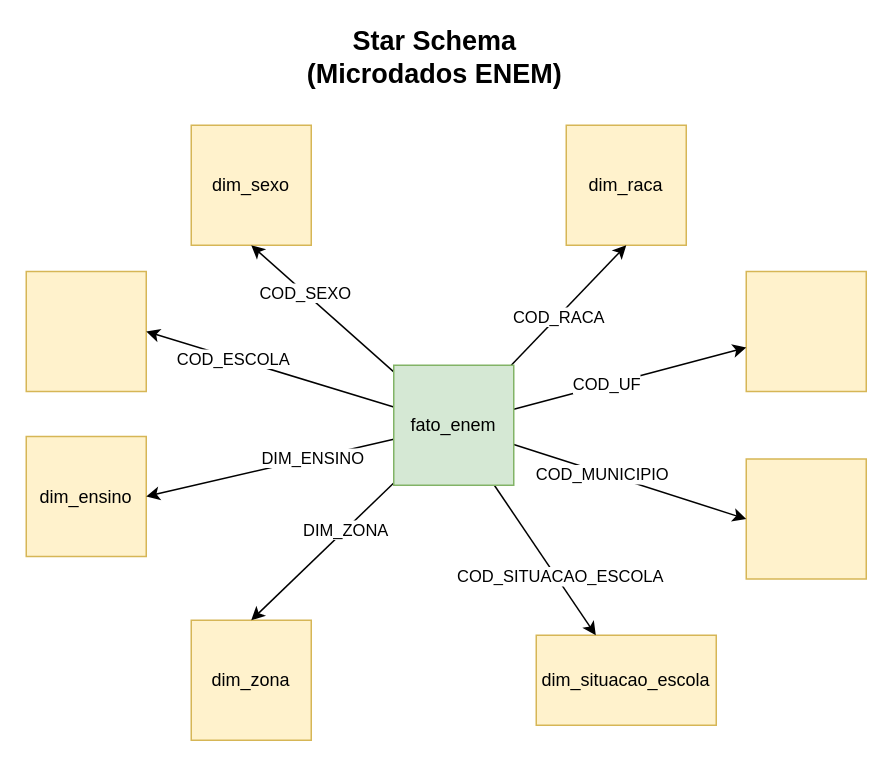
The diagram is 893 pixels wide and 767 high, and some of its shapes have lost their labels. Each missing label, with the centre of its shape:
dim_escola: point (85, 331)
dim_municipio: point (805, 518)
dim_uf: point (805, 331)
